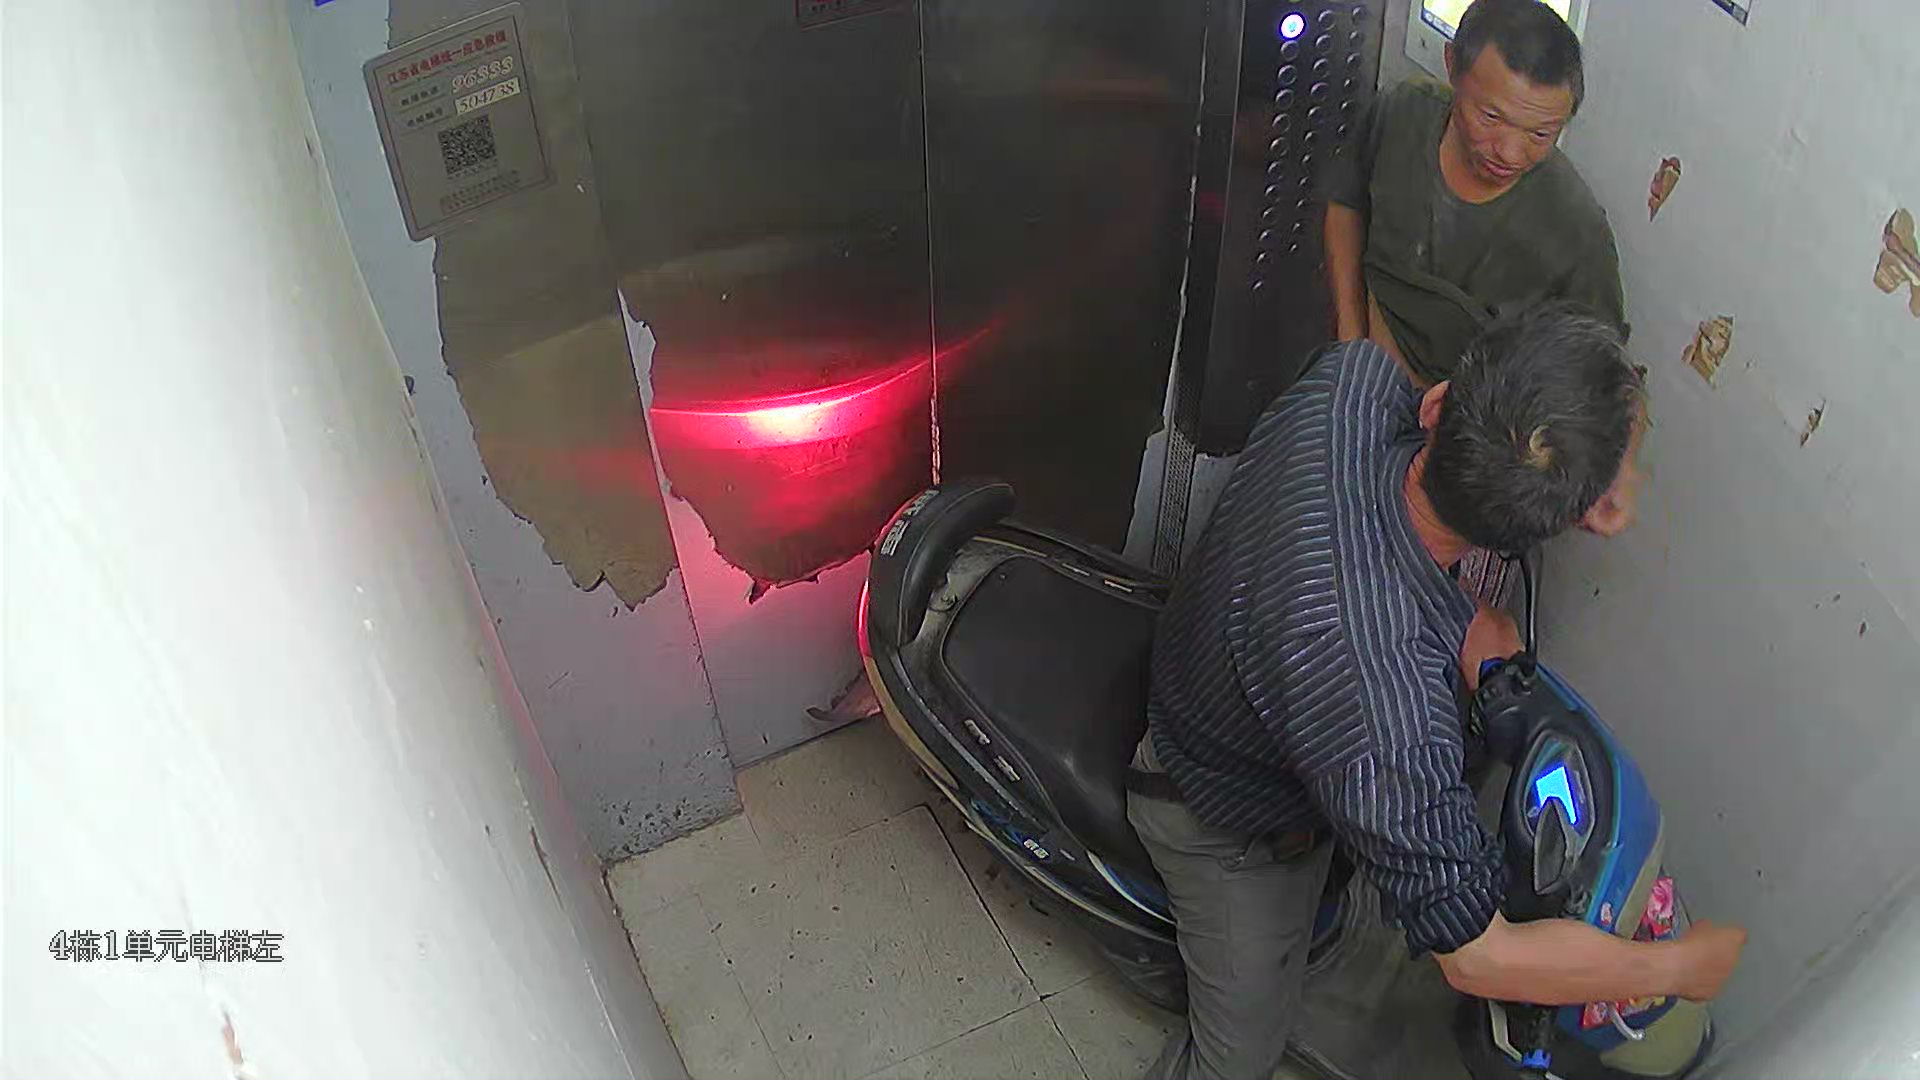Electric-bicycle: (869, 480, 1691, 1054)
